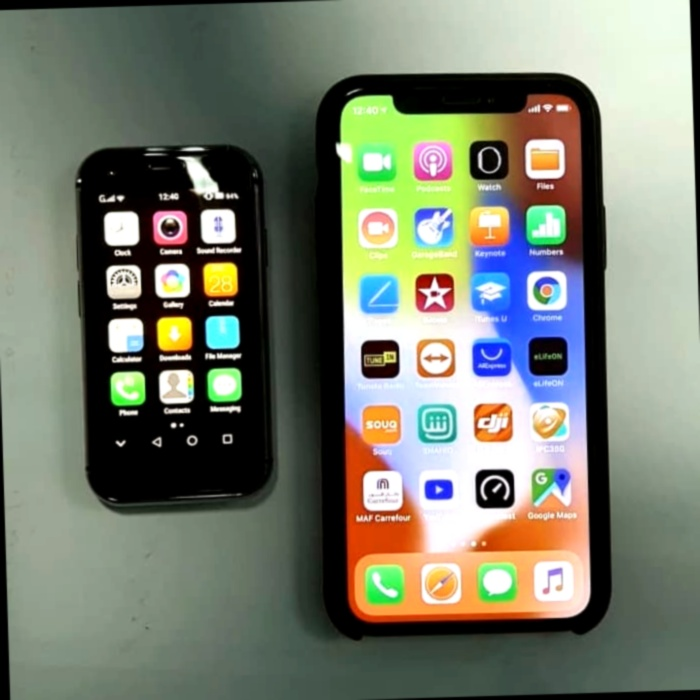iphone: (316, 74, 610, 641), (80, 140, 272, 502)
